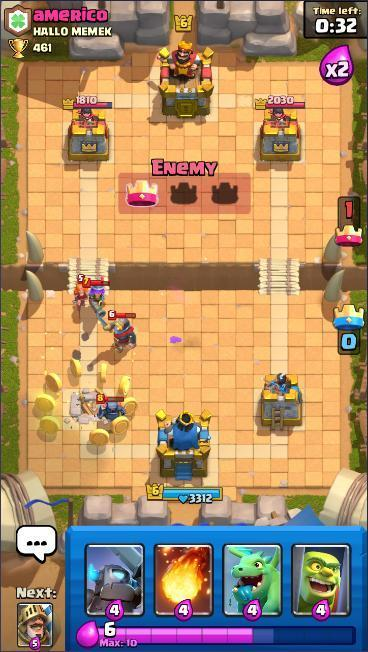ally_valkyrie: (72, 272, 92, 312)
enemy_knight: (94, 309, 140, 354)
enemy_mini_pekka: (94, 393, 128, 428)
enemy_musketeer: (81, 275, 114, 321)
